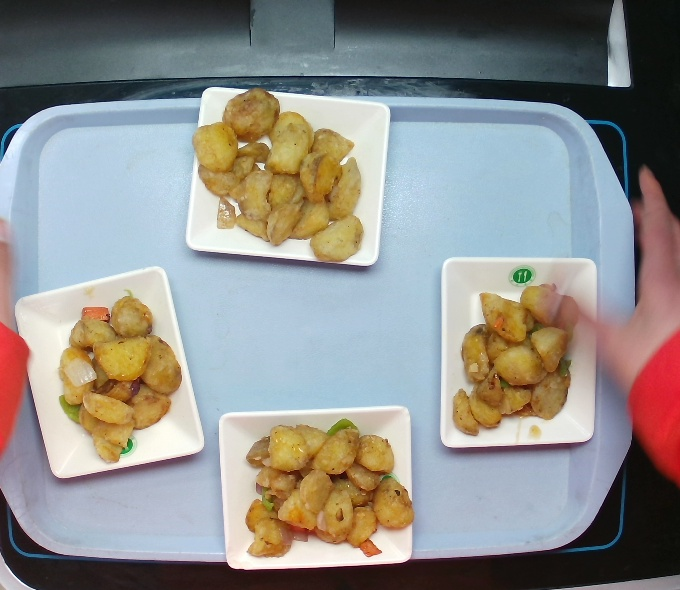wcq-TuDouZai: (188, 73, 372, 272), (229, 416, 417, 565), (448, 272, 582, 438), (52, 295, 189, 454)
